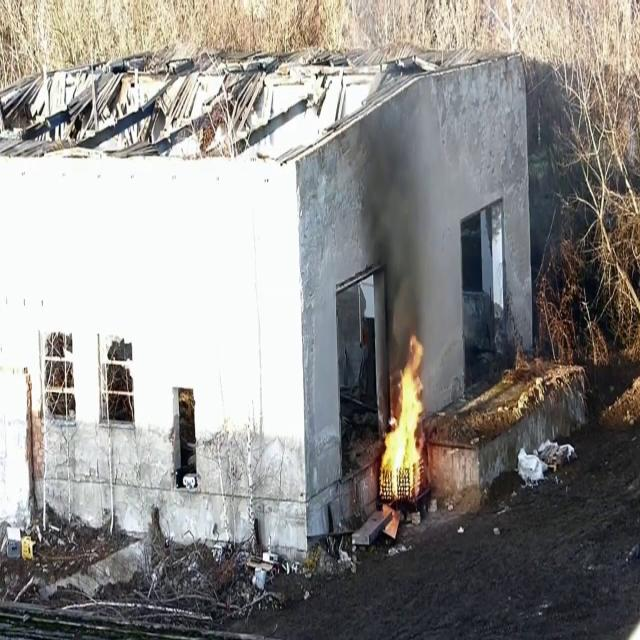fire: (382, 356, 421, 472)
